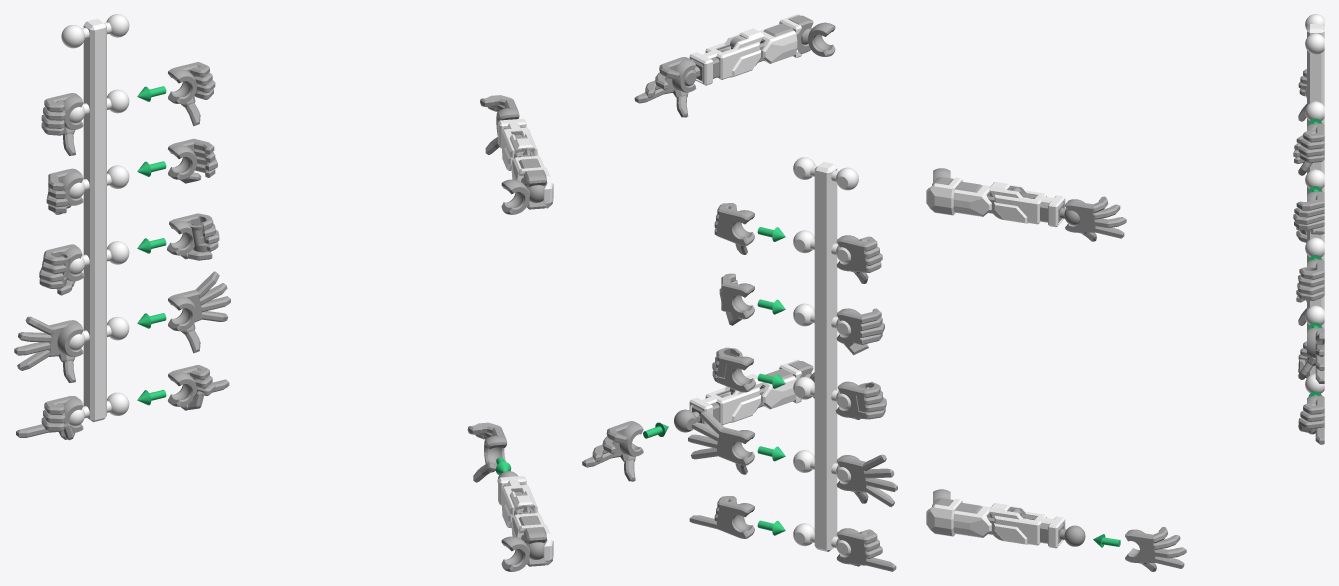
Rendered from hands.glb.
3 renders of one model, left to right at view 1: azimuth 30°, elevation 25°; view 2: azimuth 150°, elevation 25°; view 3: azimuth 270°, elevation 25°, orthographic. The views are drawn at different scales.
Parts seen in each view (by area): view 1: Hand Holder, left hand.003, right hand.002, right hand.001, right hand, right hand.003, right.001, left hand.001, left hand.002, left hand.004, left hand.005, right (+5 smaller); view 2: Hand Holder, right hand.002, Body1.060, left hand.003, left hand.005, Body1.068, left hand, right hand.003, right, left hand.004, left hand.002, left hand.001 (+8 smaller); view 3: Hand Holder, Body1.068, Body1.060, left hand.005, left hand, right.001, right hand.001, right hand, right hand.002, right hand.003, Body1.067, Body1.059 (+3 smaller).
Part boxes in pixels (bbox=[...]): Hand Holder: bbox=[61, 14, 129, 426]; left hand.003: bbox=[14, 316, 83, 382]; right hand.002: bbox=[168, 271, 230, 353]; right hand.001: bbox=[167, 213, 219, 260]; right hand: bbox=[168, 62, 215, 126]; right hand.003: bbox=[168, 365, 229, 410]; right.001: bbox=[168, 138, 217, 183]; left hand.001: bbox=[41, 93, 83, 155]; left hand.002: bbox=[39, 244, 84, 295]; left hand.004: bbox=[16, 396, 83, 440]; left hand.005: bbox=[467, 422, 507, 482]; right: bbox=[46, 168, 83, 214]; Hand Holder: bbox=[793, 157, 858, 555]; right hand.002: bbox=[688, 411, 754, 474]; Body1.060: bbox=[689, 28, 763, 85]; left hand.003: bbox=[836, 454, 897, 506]; left hand.005: bbox=[582, 421, 643, 481]; Body1.068: bbox=[689, 374, 763, 427]; left hand: bbox=[634, 57, 696, 117]; right hand.003: bbox=[689, 496, 754, 538]; right: bbox=[836, 308, 884, 355]; left hand.004: bbox=[836, 528, 896, 571]; left hand.002: bbox=[835, 381, 886, 419]; left hand.001: bbox=[836, 235, 882, 283]; Hand Holder: bbox=[1305, 14, 1324, 393]; Body1.068: bbox=[989, 503, 1065, 548]; Body1.060: bbox=[989, 182, 1065, 227]; left hand.005: bbox=[1125, 527, 1186, 571]; left hand: bbox=[1065, 196, 1126, 241]; right.001: bbox=[1293, 191, 1324, 234]; right hand.001: bbox=[1296, 259, 1324, 302]; right hand: bbox=[1298, 123, 1324, 175]; right hand.002: bbox=[1298, 327, 1324, 383]; right hand.003: bbox=[1298, 395, 1324, 444]; Body1.067: bbox=[953, 506, 991, 537]; Body1.059: bbox=[953, 184, 991, 216].
Bounding box in the file's own units: 118 × 131 × 112.
